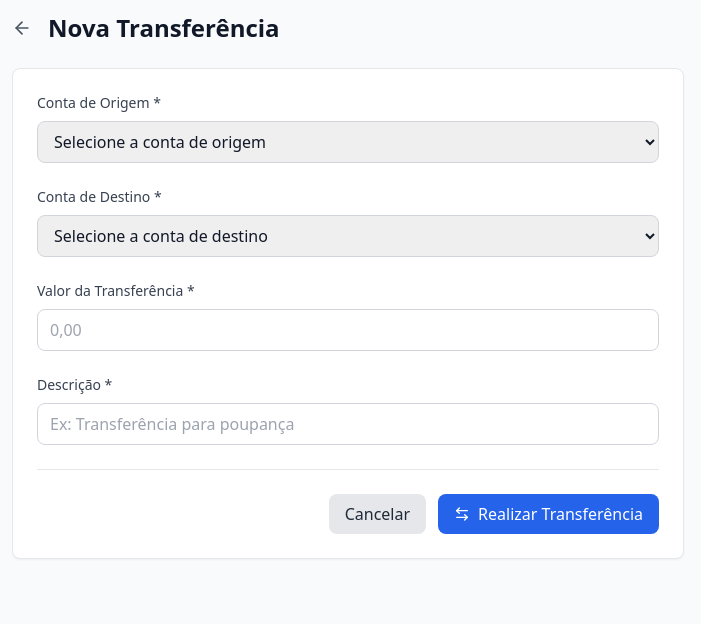
TransferForm › deve mostrar saldo disponível ao selecionar conta de origem
Select "Conta Corrente (Corrente) - R$ 5.000,00" in the dropdown labelled "Conta de Origem *" at (348, 142), box [37,121,659,163]
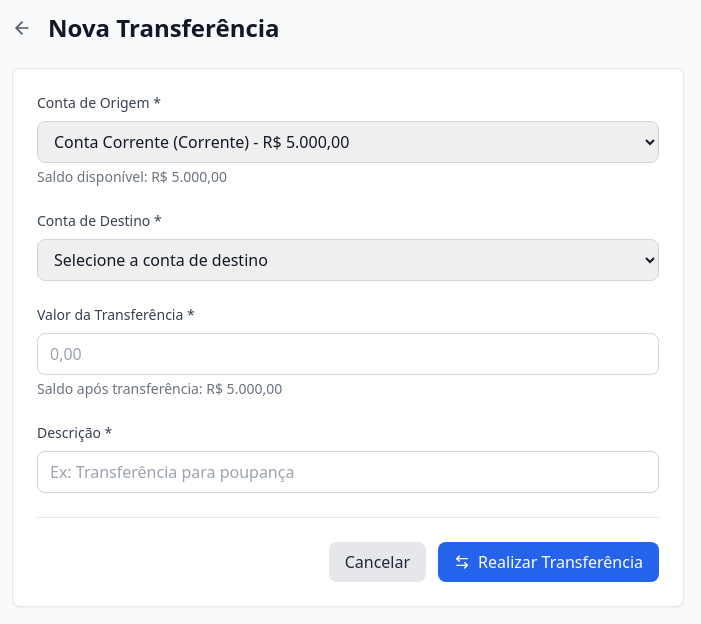
Now the text "Saldo disponível: R$ 5.000,00" is shown, box [37,167,227,186]
